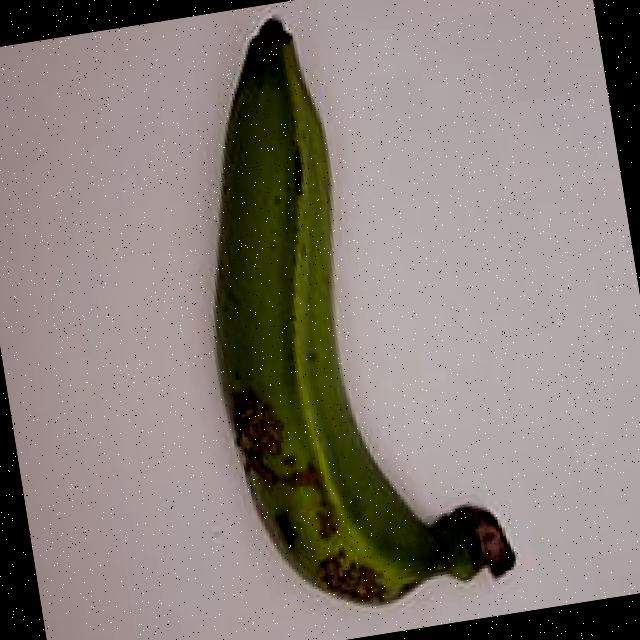Raw: (121, 0, 540, 636)
